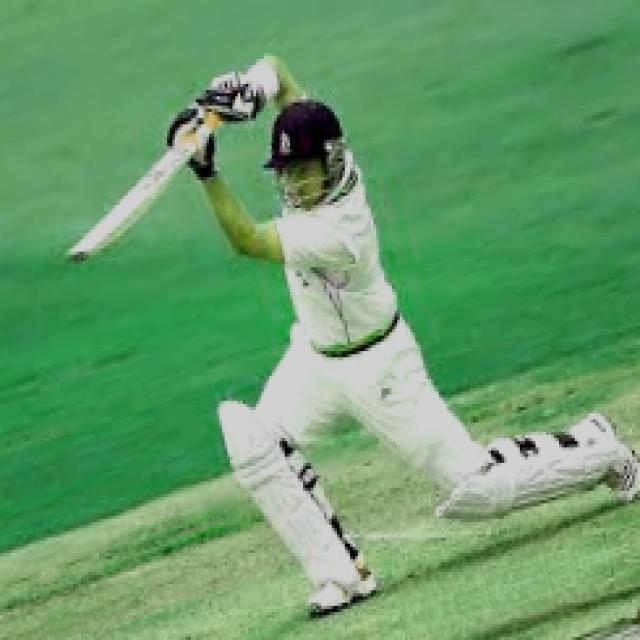bat: (53, 113, 224, 273)
toe: (63, 249, 92, 266)
